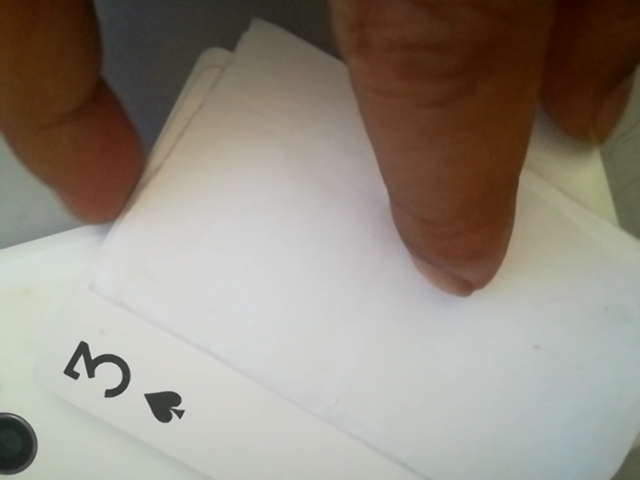ht 3: (40, 330, 199, 435)
